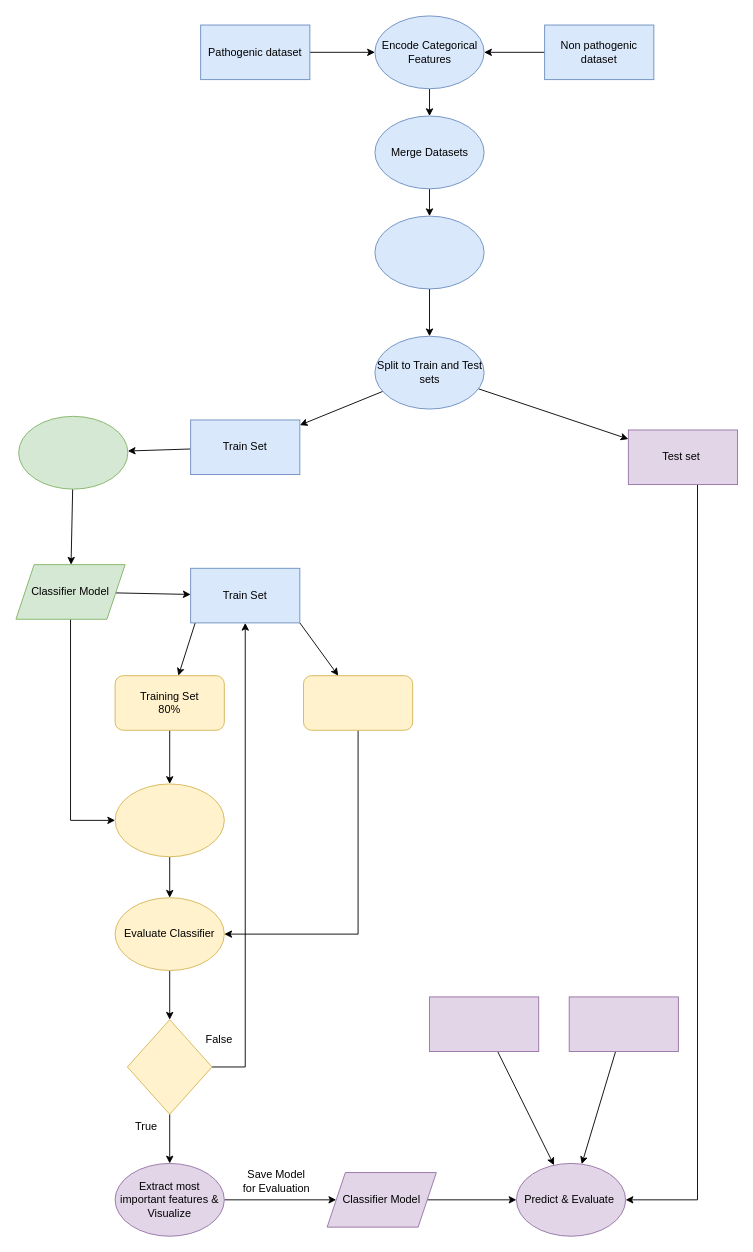
Image size: 753x1252. Some labels were removed from this diagram. Each missing label, with the centre of its shape:
"Cross-Validated 5 times" goes at (x=169, y=1066).
"Grid Search - Hyper Parameter Tuning" goes at (x=73, y=452).
"HumDiv dataset" goes at (x=484, y=1024).
"HumVar dataset" goes at (x=623, y=1024).
"Scaling & KNN Imputation with best k" goes at (x=429, y=252).
"Train Random Forest Classifier" goes at (x=169, y=820).
"Validation Set 20%" goes at (x=358, y=702).
